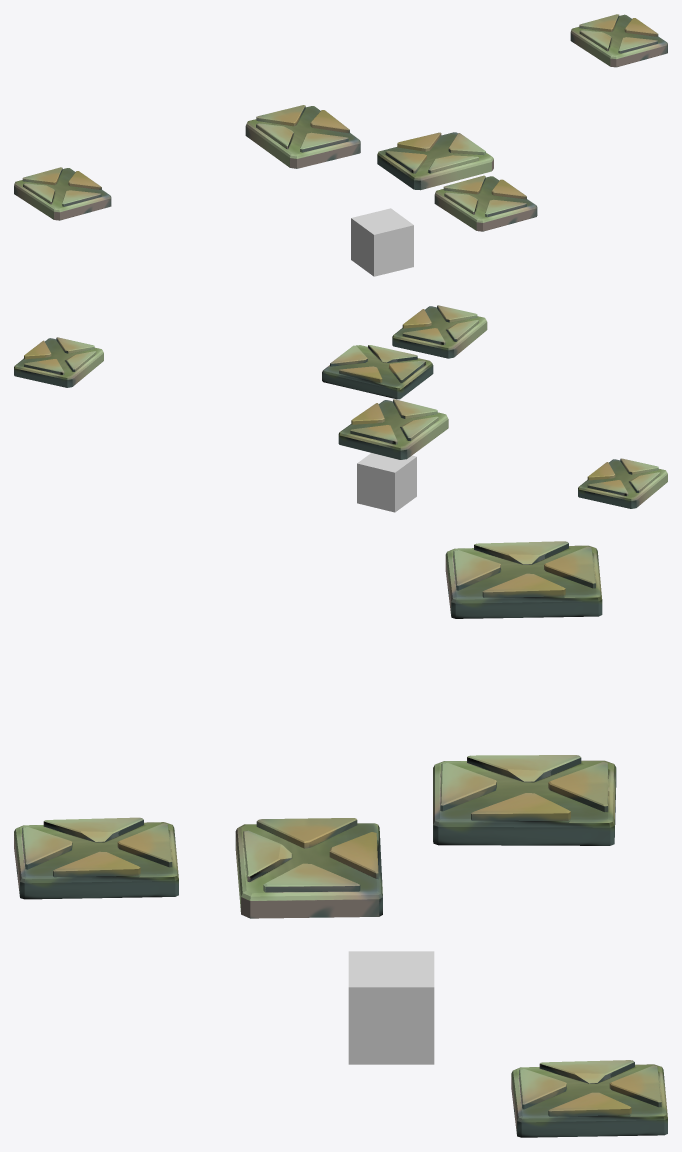
Rendered from battlescence-3-floor007.fbx.
3 views of the same model, one above another, from view 1: azimuth 30°, elevation 25°; view 2: azimuth 150°, elevation 25°; view 3: azimuth 270°, elevation 25° (orthographic). The views are drawn at different scales.
Parts seen in each view (by area): view 1: Plane.054, Plane.055, Plane.064, battlescence-3-floor007, Plane.056, Plane.062; view 2: Plane.054, Plane.055, Plane.064, Plane.056, Plane.062, battlescence-3-floor007; view 3: Plane.054, Plane.055, Plane.064, Plane.056, Plane.062, battlescence-3-floor007.
Boxes of the visible parts, left/top/right/bottom form: Plane.054: left=245, top=105, right=360, bottom=168; Plane.055: left=377, top=132, right=493, bottom=190; Plane.064: left=434, top=175, right=537, bottom=231; battlescence-3-floor007: left=351, top=208, right=413, bottom=276; Plane.056: left=14, top=167, right=111, bottom=220; Plane.062: left=570, top=14, right=667, bottom=67; Plane.054: left=338, top=399, right=448, bottom=459; Plane.055: left=322, top=345, right=433, bottom=399; Plane.064: left=392, top=305, right=487, bottom=358; Plane.056: left=578, top=458, right=667, bottom=508; Plane.062: left=14, top=337, right=103, bottom=387; battlescence-3-floor007: left=357, top=453, right=416, bottom=512; Plane.054: left=433, top=755, right=616, bottom=845; Plane.055: left=235, top=818, right=382, bottom=918; Plane.064: left=14, top=817, right=178, bottom=899; Plane.056: left=445, top=541, right=602, bottom=618; Plane.062: left=511, top=1060, right=667, bottom=1137; battlescence-3-floor007: left=348, top=951, right=434, bottom=1064.
Size of the model in its own units: 2566 by 470 by 1235.
